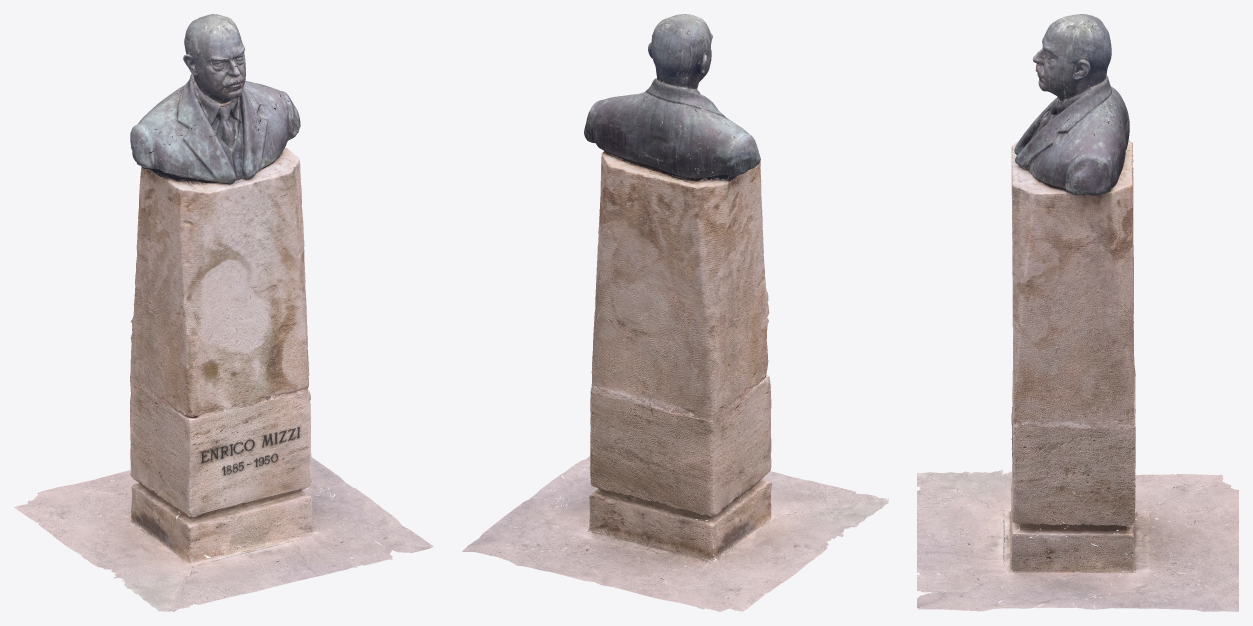
File: mizzi-gN3HYrDy.glb
The picture shows the model from 3 angles, left to right: view 1: azimuth 30°, elevation 25°; view 2: azimuth 150°, elevation 25°; view 3: azimuth 270°, elevation 25°; orthographic projection. The views are drawn at different scales.
Visible parts, largest first — view 1: Model; view 2: Model; view 3: Model.
Boxes of the visible parts, <box> form: Model: <box>14,14,433,611</box>; Model: <box>462,14,888,611</box>; Model: <box>917,14,1238,611</box>.
Size of the model in its own units: 56.26 by 101 by 55.99.
Materials: 5 (5 with a texture image).
